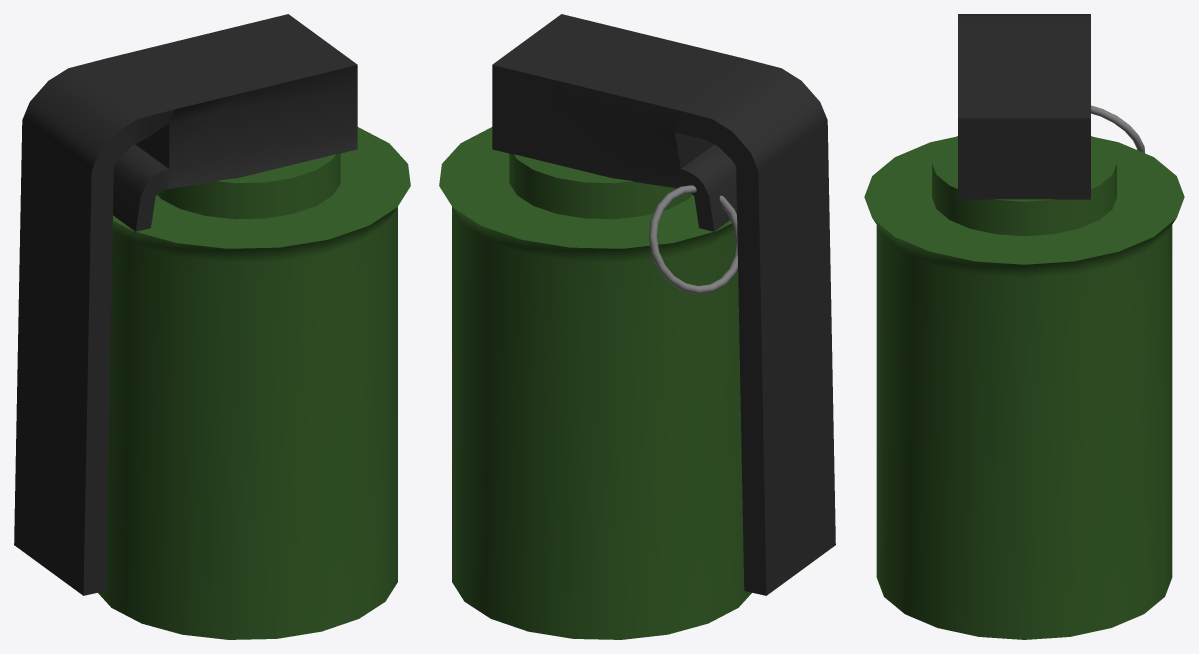
File: Grenade.fbx
The picture shows the model from 3 angles, left to right: view 1: azimuth 30°, elevation 25°; view 2: azimuth 150°, elevation 25°; view 3: azimuth 270°, elevation 25°; orthographic projection. The views are drawn at different scales.
Parts seen in each view (by area): view 1: pTorus2; view 2: pTorus2; view 3: pTorus2.
Boxes of the visible parts, x1,y1,x2,y2 form: pTorus2: [14, 14, 410, 639]; pTorus2: [439, 14, 835, 639]; pTorus2: [864, 14, 1184, 639].
Bounding box in the file's own units: 5.95 × 8.63 × 5.05.
